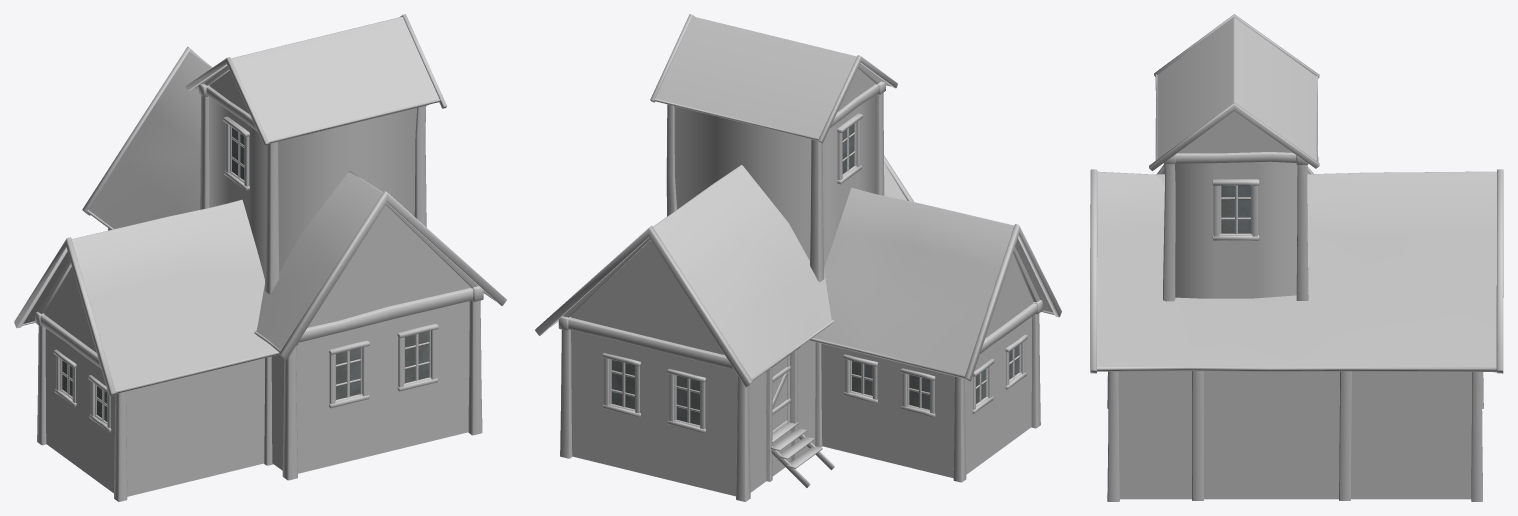
Rendered from House_10.FBX.
3 renders of one model, left to right at view 1: azimuth 30°, elevation 25°; view 2: azimuth 150°, elevation 25°; view 3: azimuth 270°, elevation 25°, orthographic. The views are drawn at different scales.
Parts seen in each view (by area): view 1: mesh; view 2: mesh; view 3: mesh.
Boxes of the visible parts, left/top/right/bottom form: mesh: left=14, top=14, right=506, bottom=501; mesh: left=535, top=14, right=1061, bottom=501; mesh: left=1090, top=14, right=1503, bottom=501.
Bounding box in the file's own units: 1135 × 1054 × 1100.
